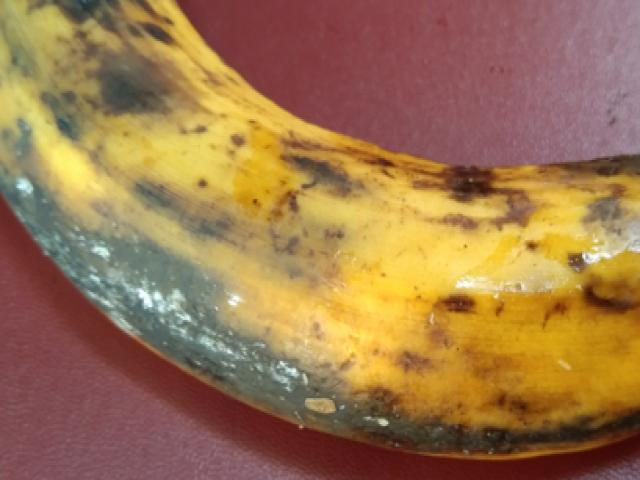rotten: (0, 0, 639, 478)
